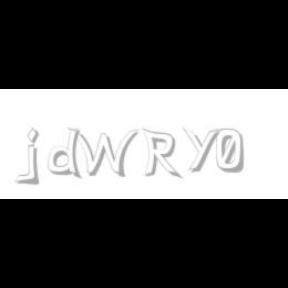0: (216, 128, 248, 174)
R: (142, 128, 180, 180)
W: (67, 128, 139, 178)
d: (48, 128, 84, 180)
j: (24, 128, 54, 186)
y: (183, 128, 223, 172)
